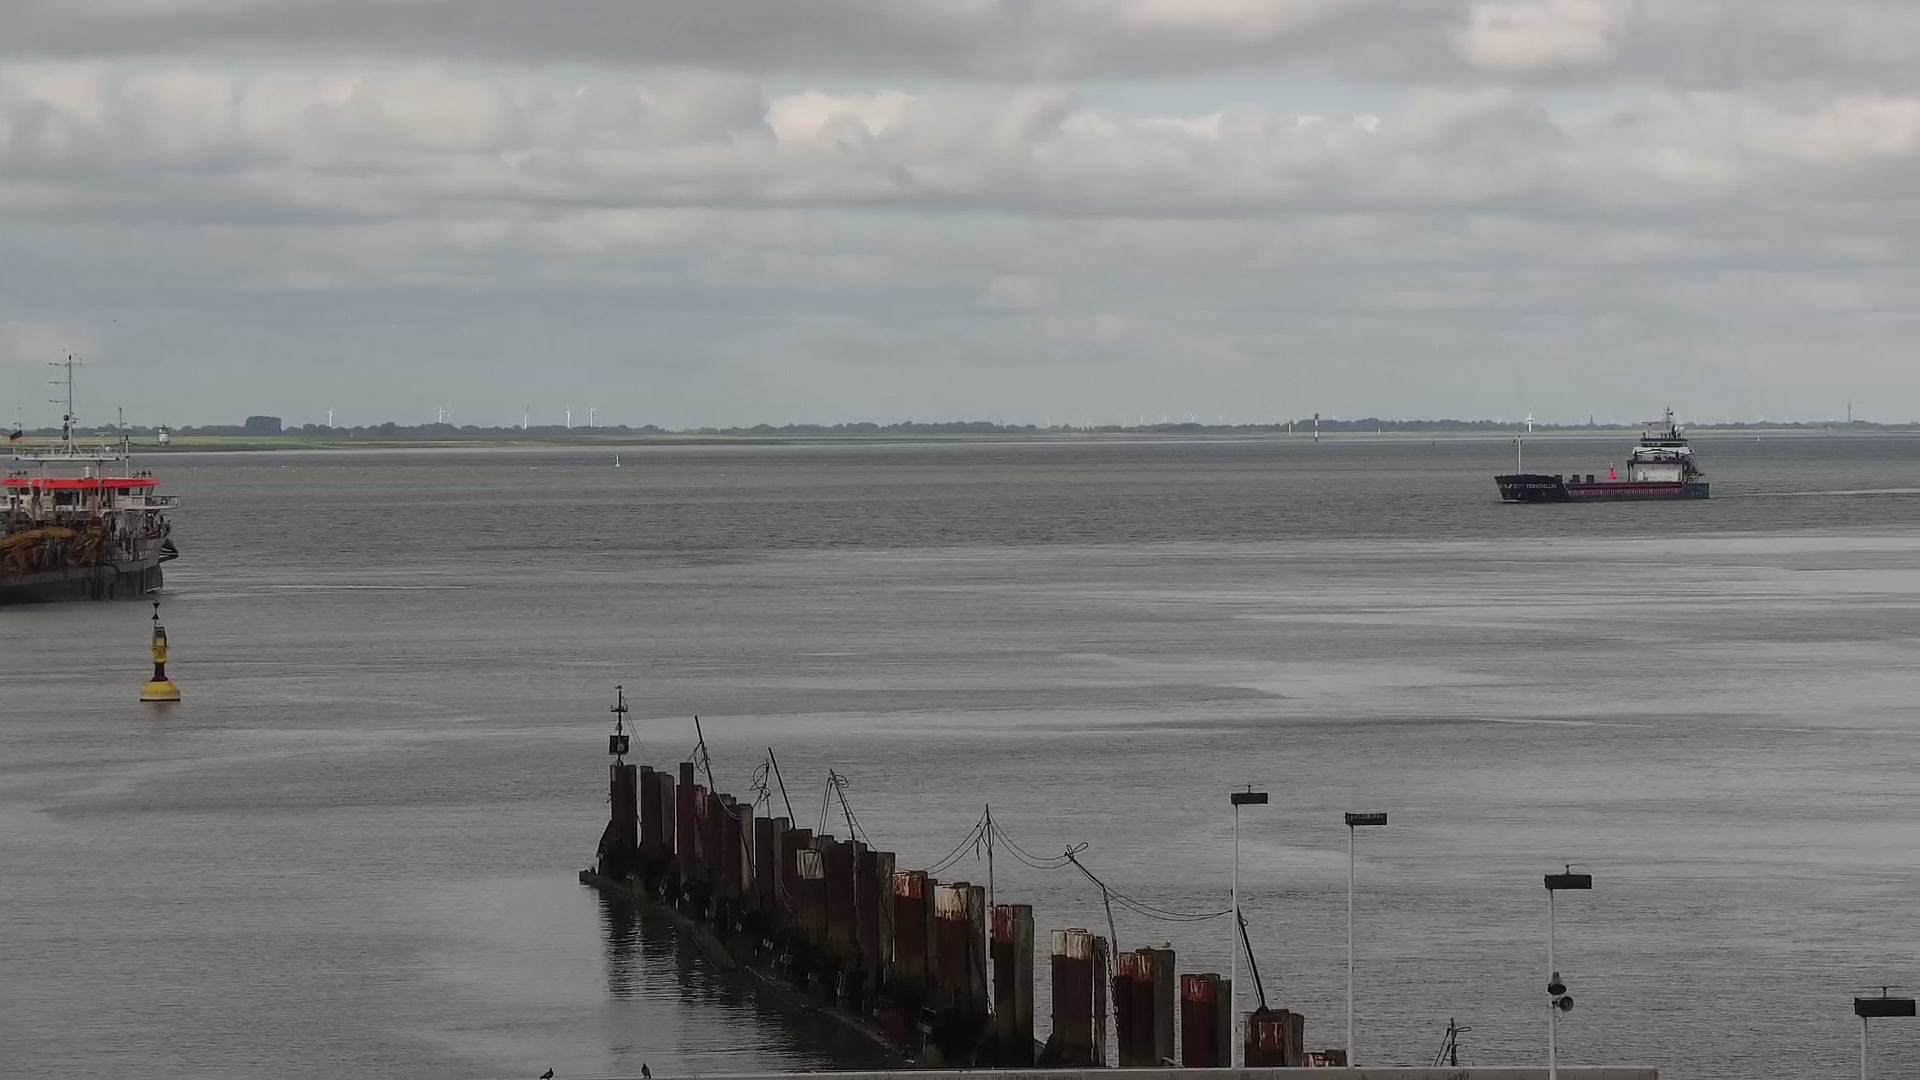sea: (3, 351, 181, 605), (1493, 404, 1712, 505)
